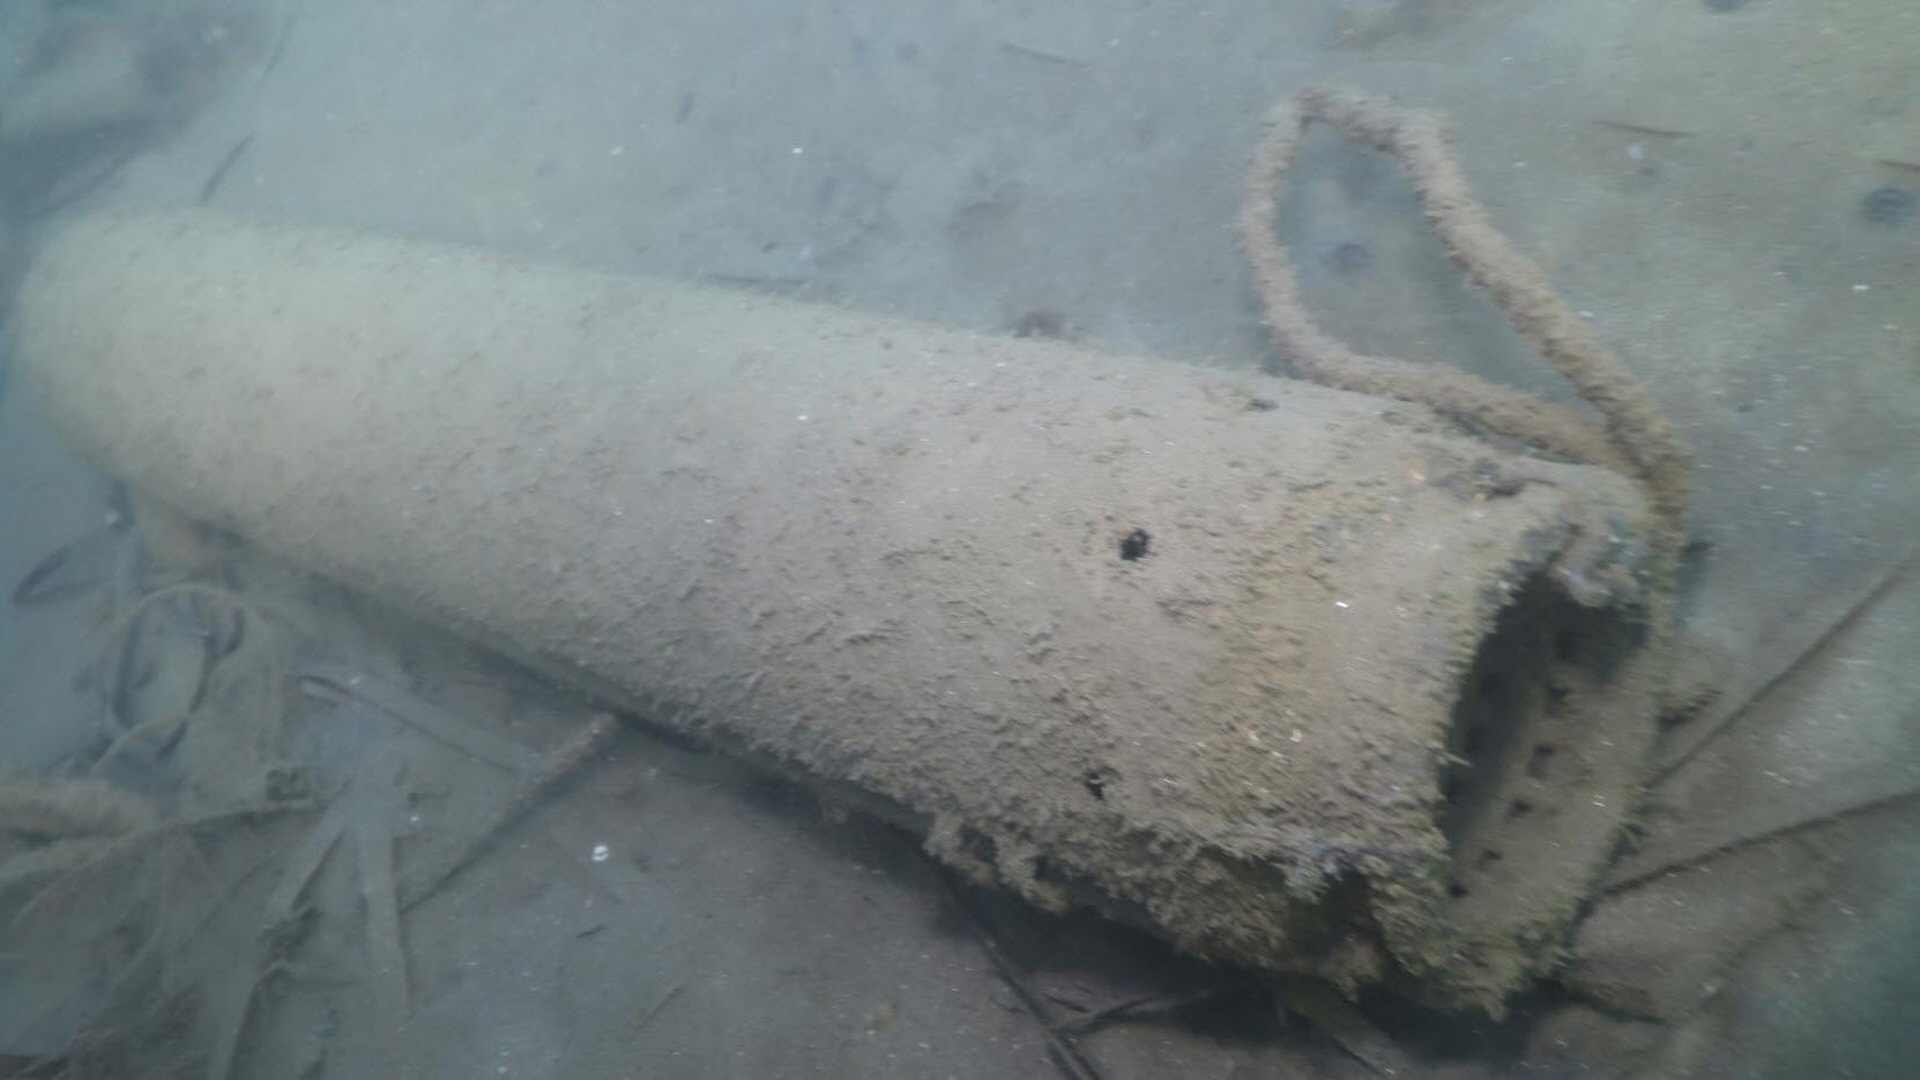eel fish trap: (7, 200, 1680, 1004)
rope: (1237, 78, 1683, 518)
